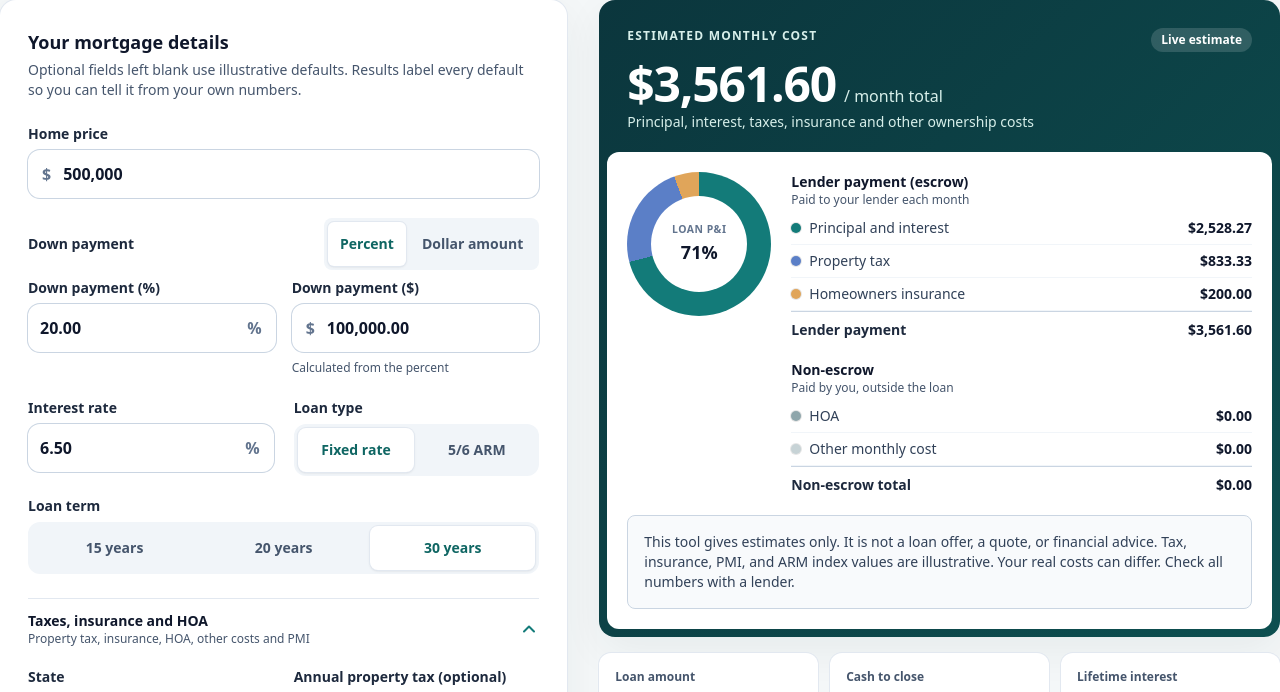
Test case: LoanCalculator › shows monthly principal and interest for each term
This screenshot has width=1280, height=692.
Expected: the text "$2,528.27" is shown, x1=1188 y1=218 x2=1252 y2=238
Click the radio button labelled "20 years". click: [284, 547]
box: x1=255 y1=538 x2=312 y2=556
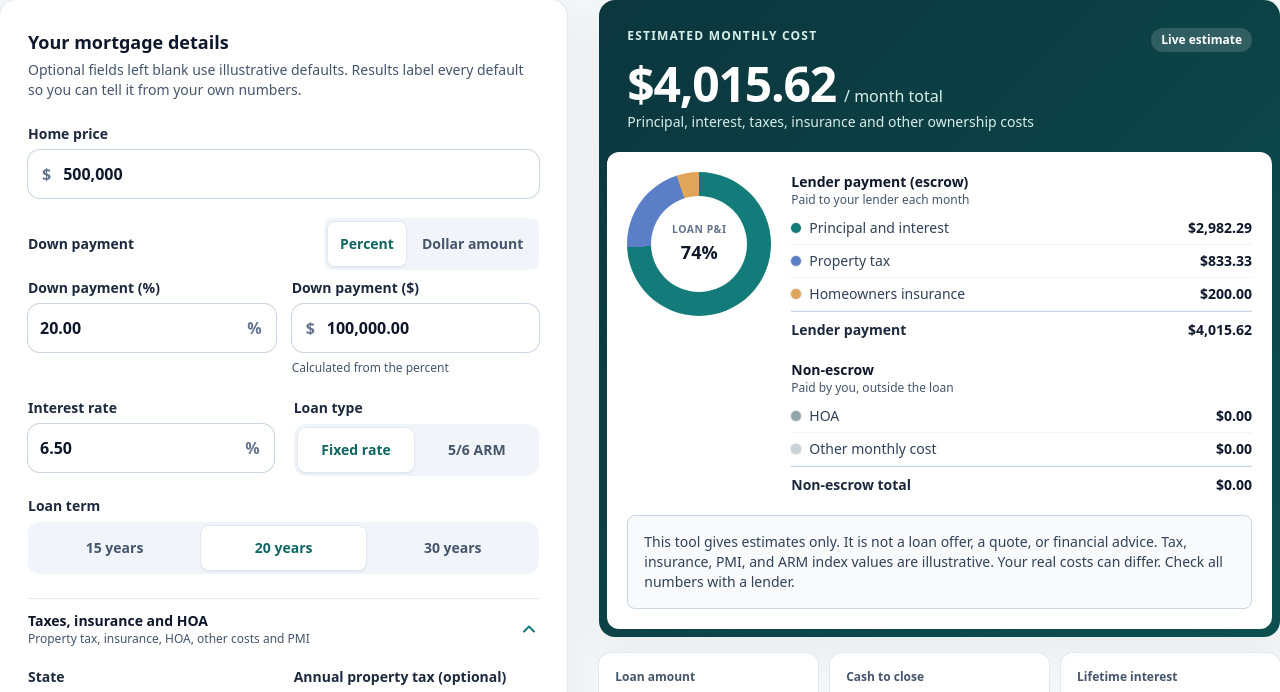
Expected: the text "$2,982.29" is shown, x1=1188 y1=218 x2=1252 y2=238
Click the radio button labelled "15 years". click: [115, 547]
box: x1=86 y1=538 x2=143 y2=556
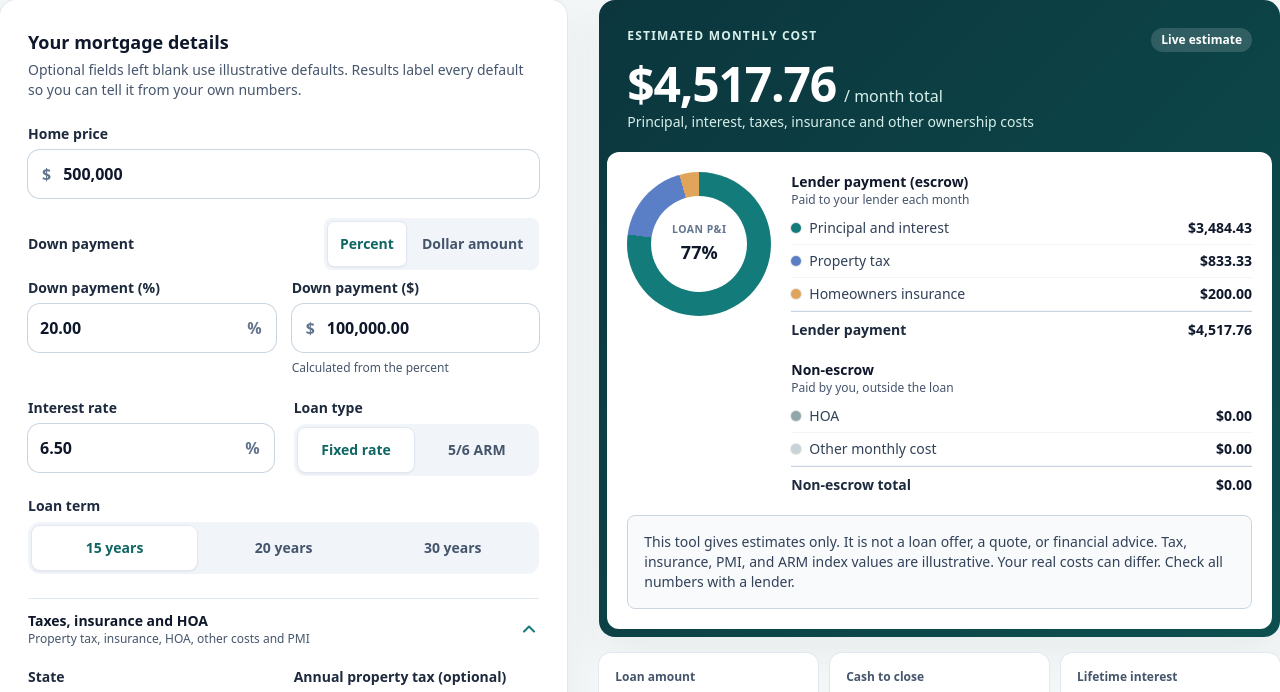
Expected: the text "$3,484.43" is shown, x1=1188 y1=218 x2=1252 y2=238
